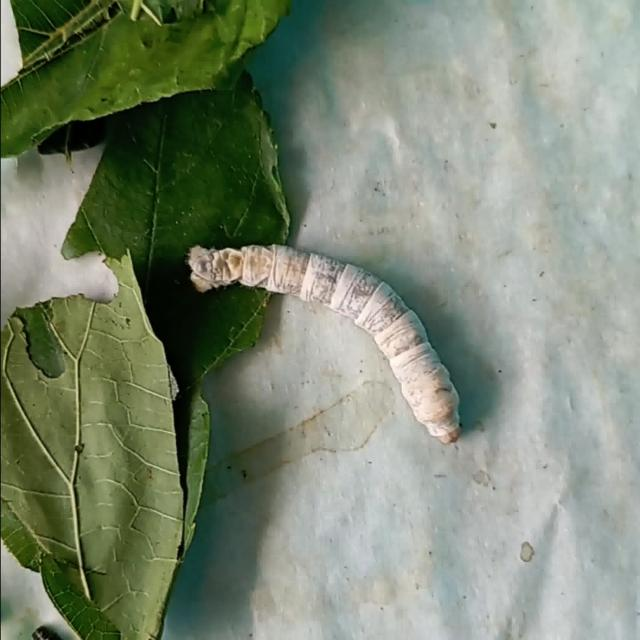Grasserie: (182, 228, 477, 453)
